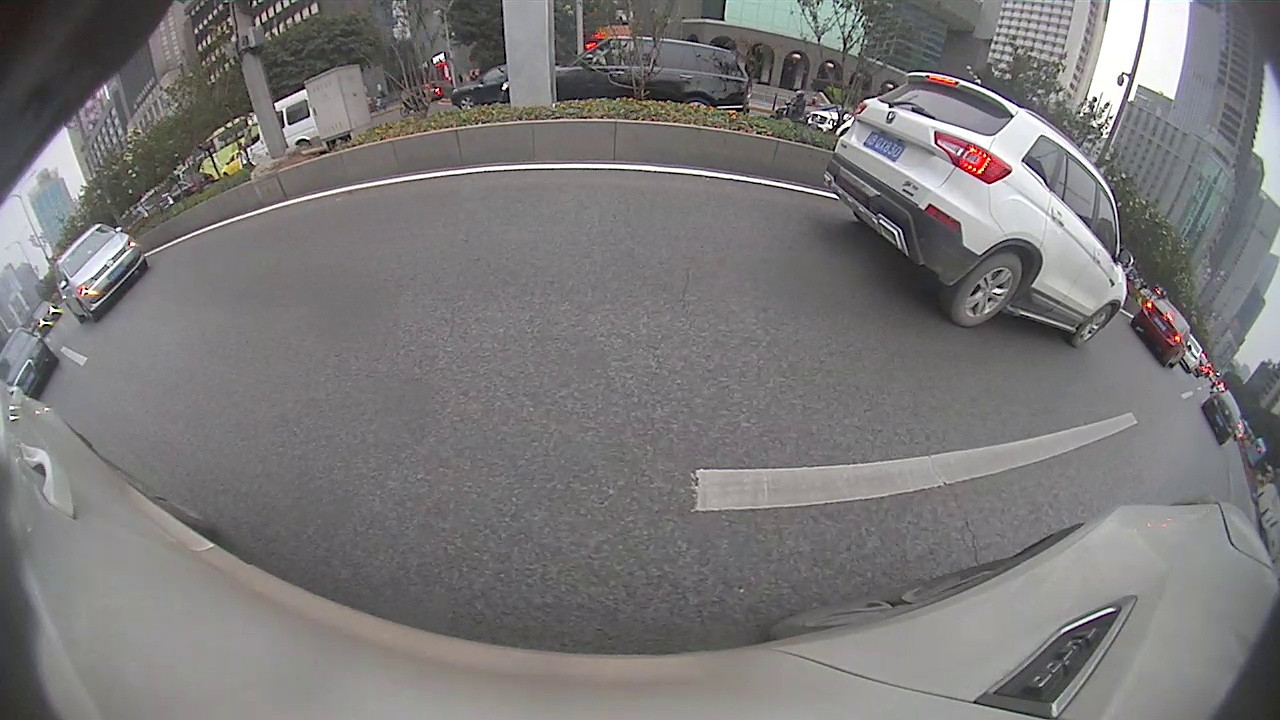bus: (644, 148, 681, 183)
car: (25, 166, 416, 428), (1033, 233, 1278, 437), (907, 183, 1071, 268), (1028, 208, 1114, 267), (843, 171, 922, 216), (758, 157, 831, 203), (715, 162, 758, 188), (693, 166, 715, 181)
front: (1049, 262, 1093, 315), (373, 222, 404, 271), (915, 210, 933, 231)
rear: (138, 311, 228, 406), (1223, 380, 1266, 433), (994, 235, 1019, 262)
